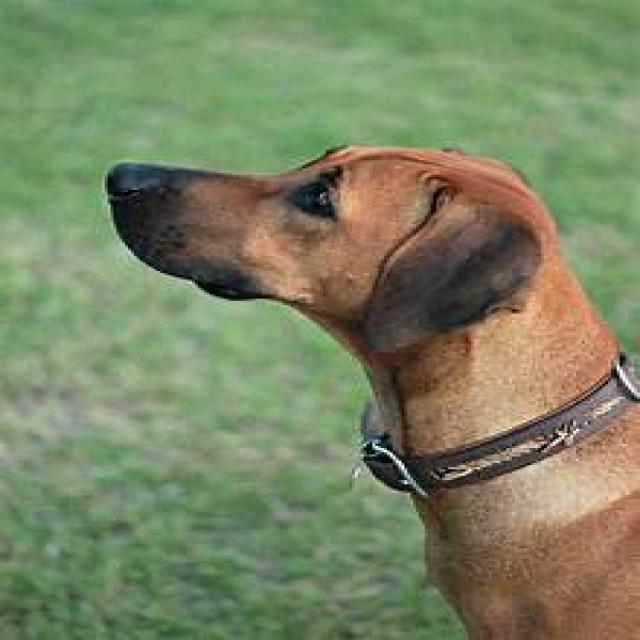dog: (102, 141, 637, 638)
